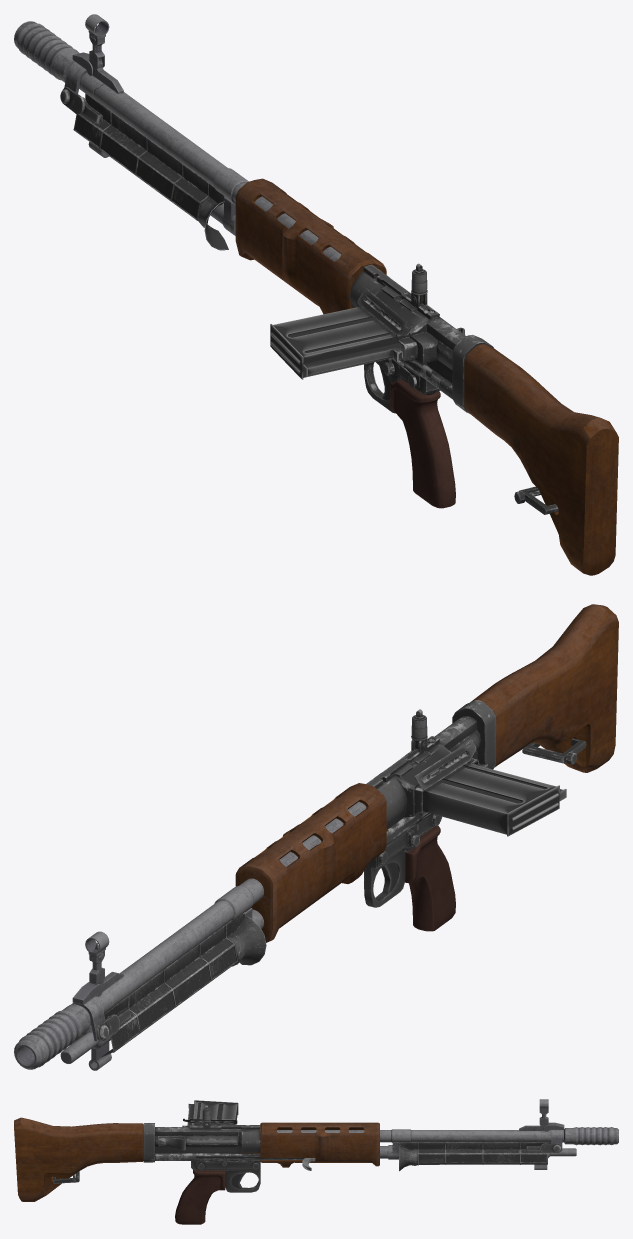
3 renders of one model, top to bottom at view 1: azimuth 30°, elevation 25°; view 2: azimuth 150°, elevation 25°; view 3: azimuth 270°, elevation 25°, orthographic. The views are drawn at different scales.
Parts seen in each view (by area): view 1: Body, Barrel, Bipod, Magazine; view 2: Body, Barrel, Bipod, Magazine; view 3: Body, Barrel, Bipod, Magazine, Ejection_port.
Boxes of the visible parts, bbox=[...] form: Body: bbox=[235, 178, 618, 575]; Barrel: bbox=[14, 14, 341, 261]; Bipod: bbox=[60, 87, 228, 250]; Magazine: bbox=[270, 306, 403, 379]; Body: bbox=[235, 604, 618, 942]; Barrel: bbox=[14, 801, 366, 1070]; Bipod: bbox=[73, 912, 266, 1057]; Magazine: bbox=[423, 763, 566, 836]; Body: bbox=[14, 1117, 379, 1224]; Barrel: bbox=[277, 1099, 618, 1169]; Bipod: bbox=[399, 1142, 562, 1171]; Magazine: bbox=[187, 1100, 238, 1125]; Ejection_port: bbox=[186, 1140, 237, 1144].
Bounding box in the file's own units: 0.1628 × 0.1939 × 0.8698.
10 materials, 10 textured.
